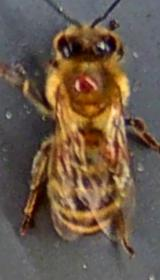varroa_mite: (59, 62, 104, 98)
